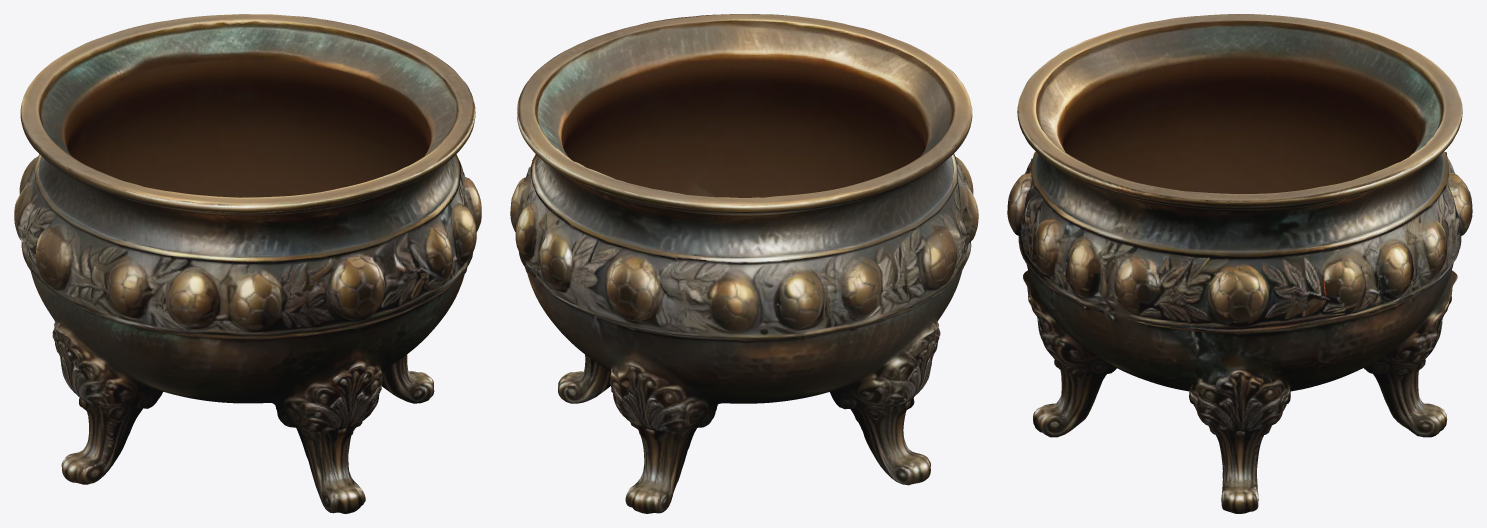
File: wc-cauldron.glb
3 renders of one model, left to right at view 1: azimuth 30°, elevation 25°; view 2: azimuth 150°, elevation 25°; view 3: azimuth 270°, elevation 25°, orthographic. The views are drawn at different scales.
Parts seen in each view (by area): view 1: model; view 2: model; view 3: model.
Part boxes in pixels (bbox=[...]): model: bbox=[14, 14, 481, 513]; model: bbox=[510, 14, 978, 513]; model: bbox=[1007, 14, 1472, 513].
Size of the model in its own units: 1.9 by 1.46 by 1.9.
Materials: 1 (1 with a texture image).
